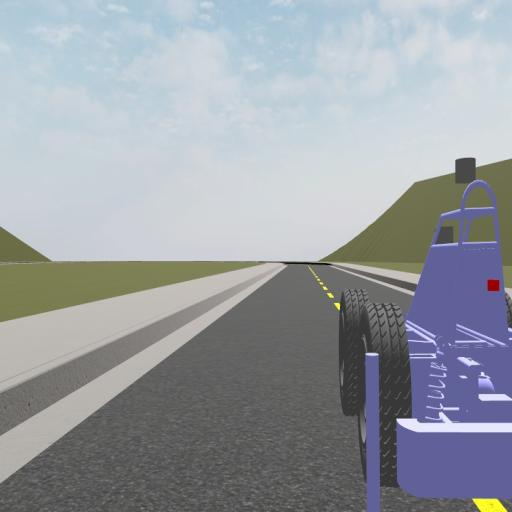ERP-42: (336, 163, 512, 502)
